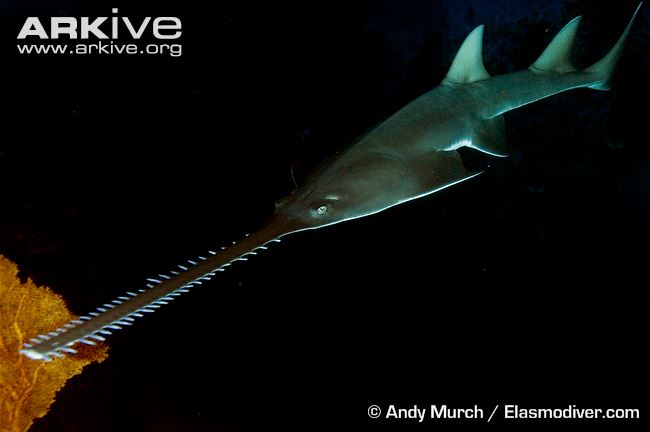shark: (18, 16, 629, 375)
